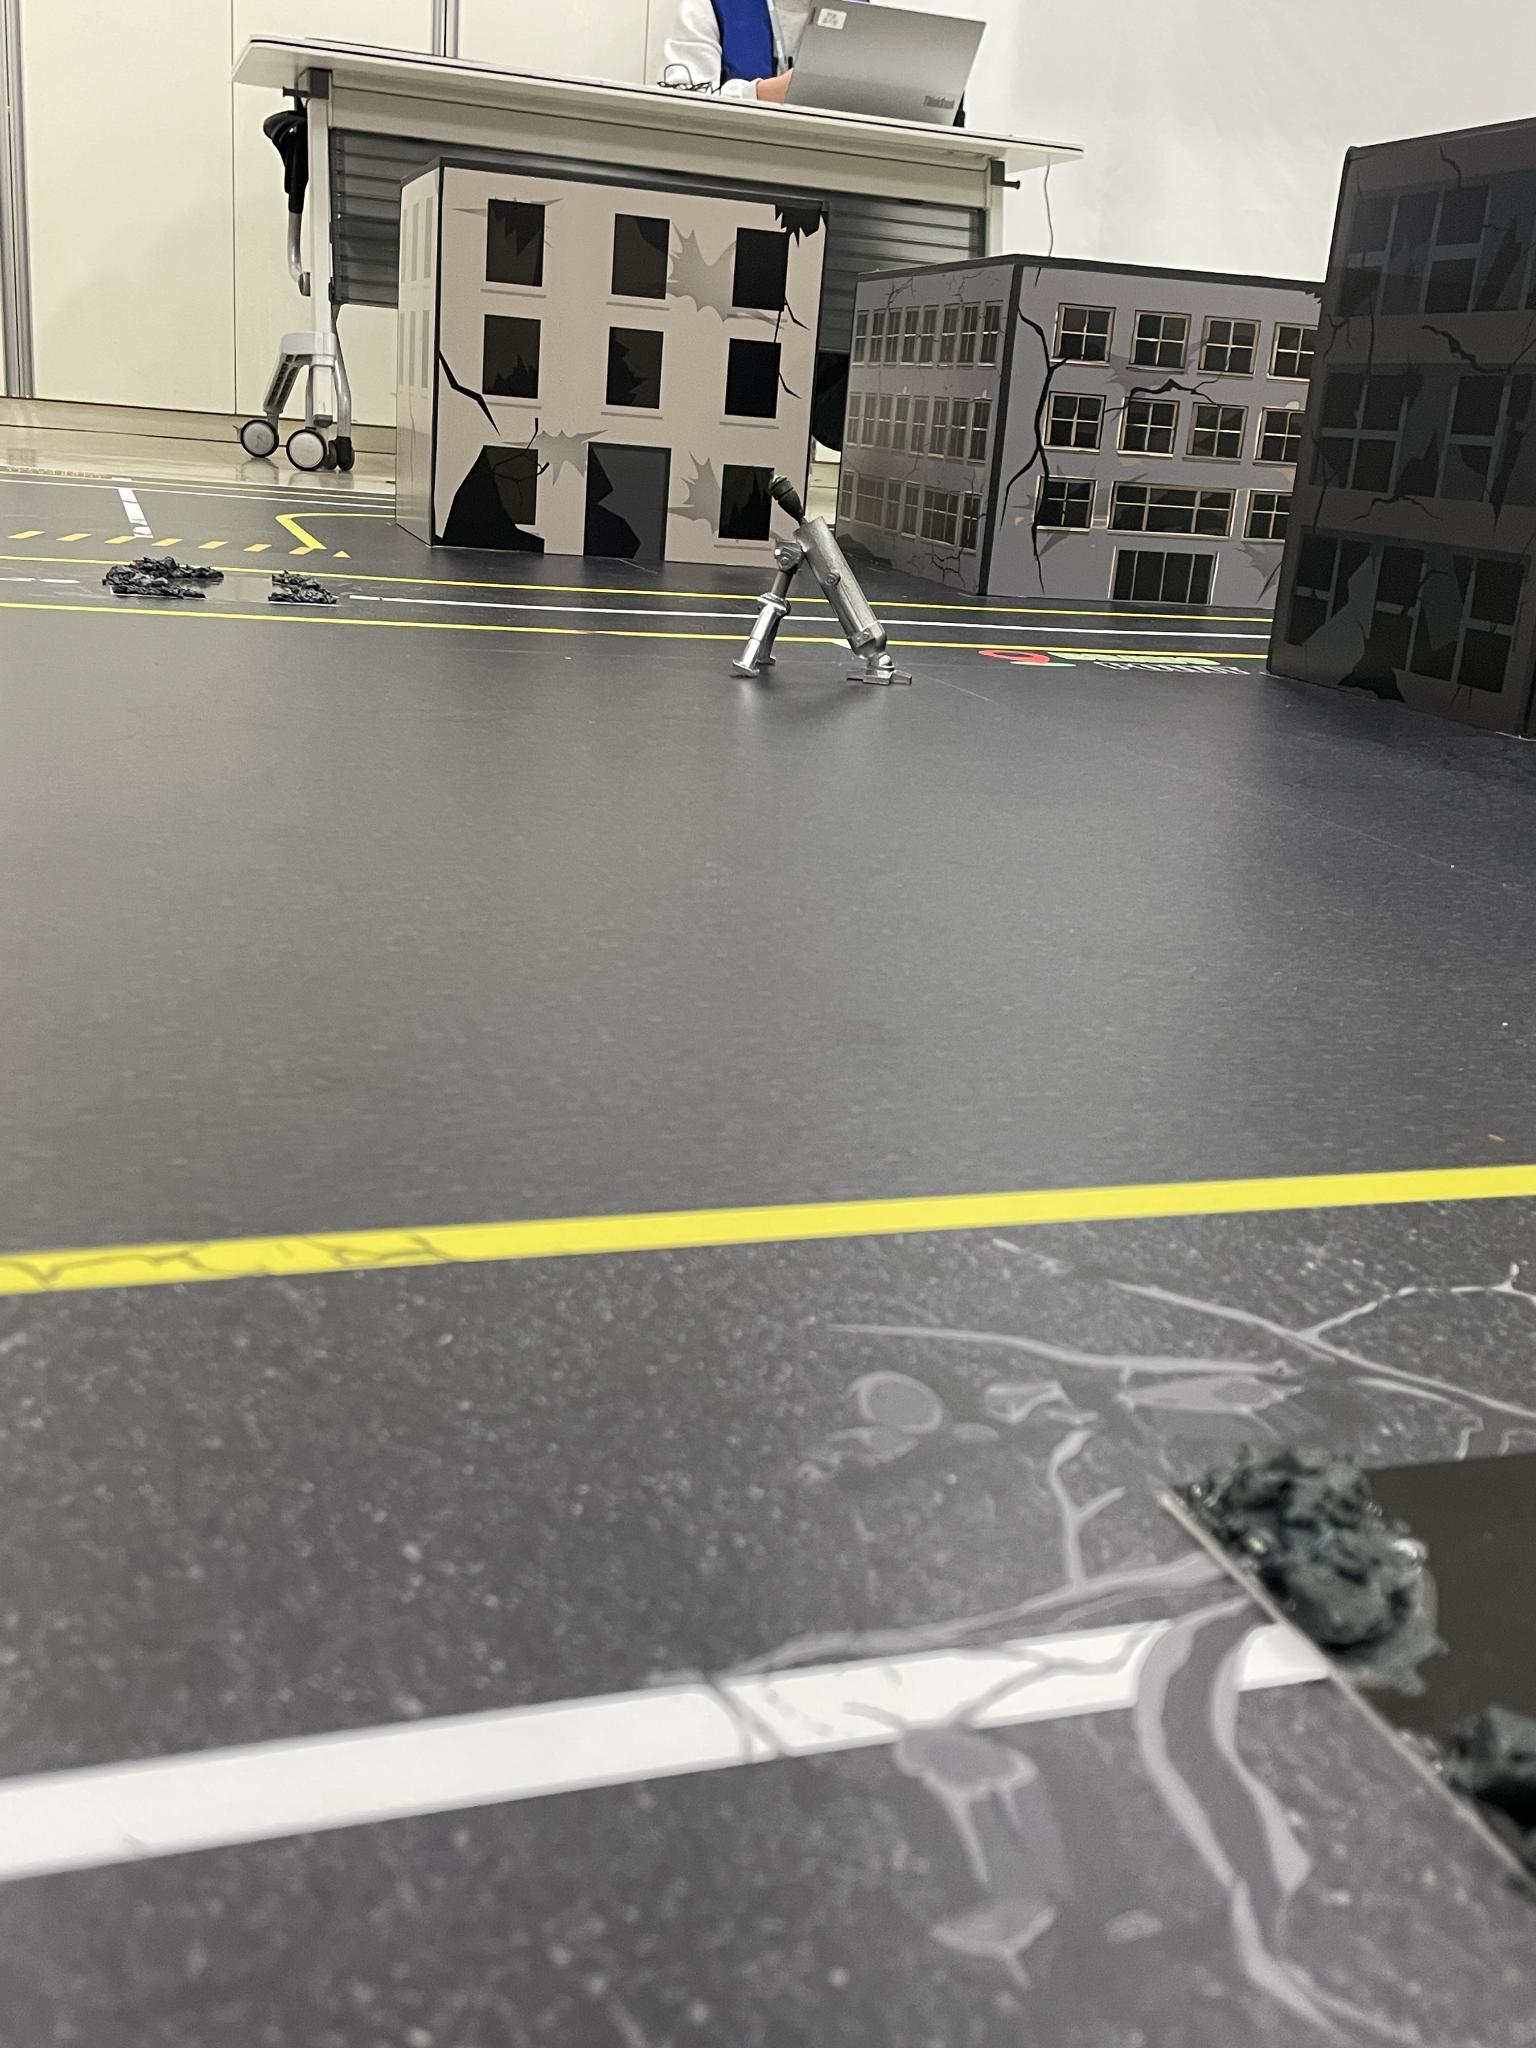Mortar: (734, 472, 904, 689)
